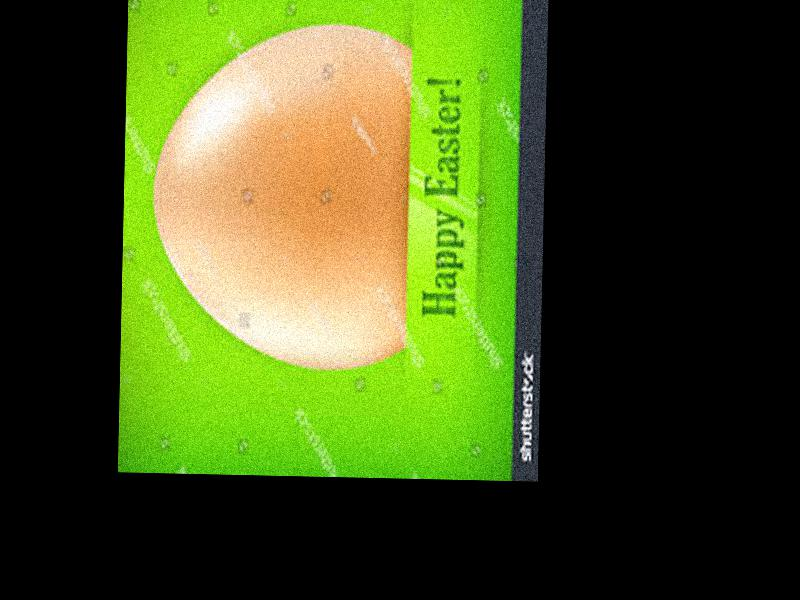Eggs: (149, 21, 412, 369)
